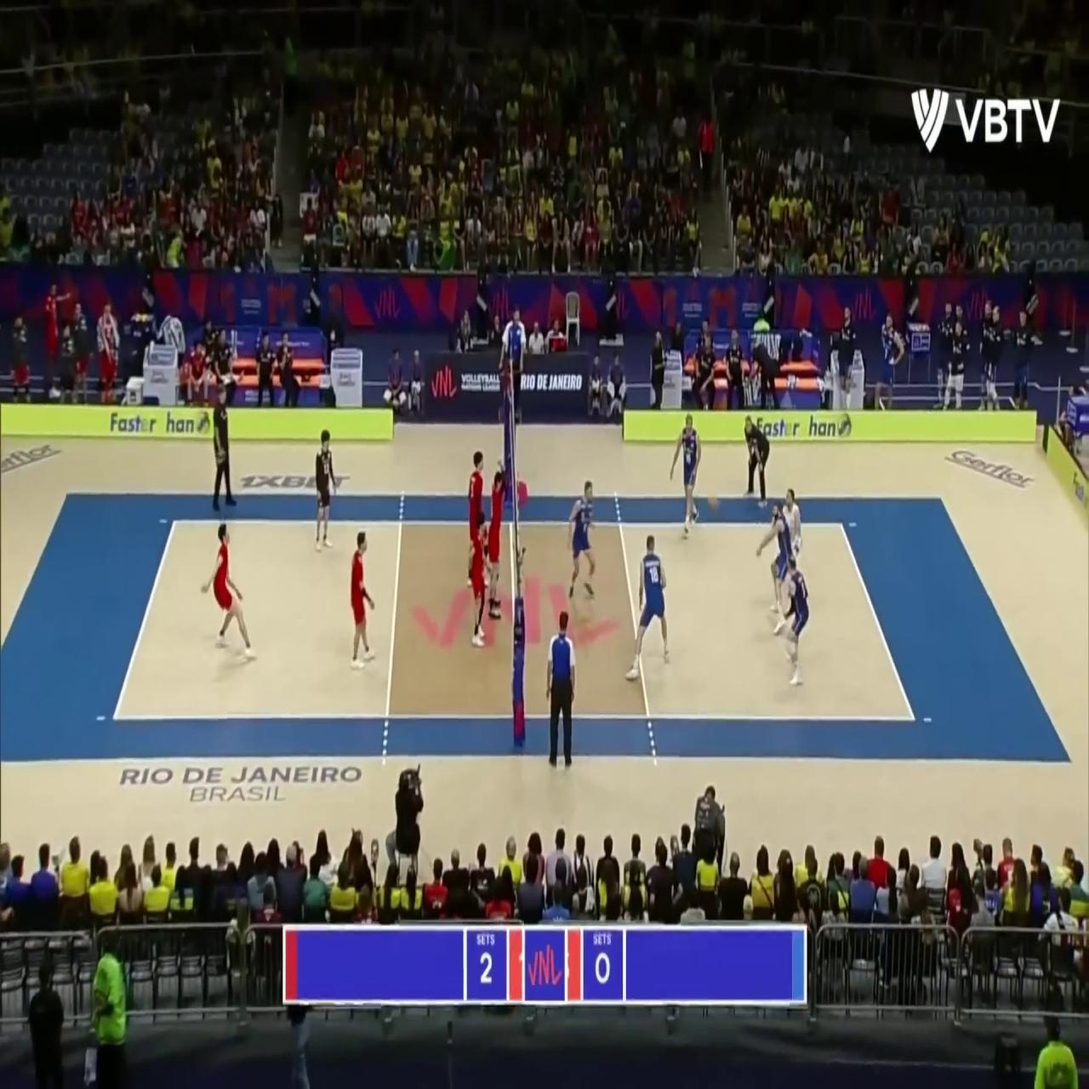ball: (707, 486, 717, 507)
